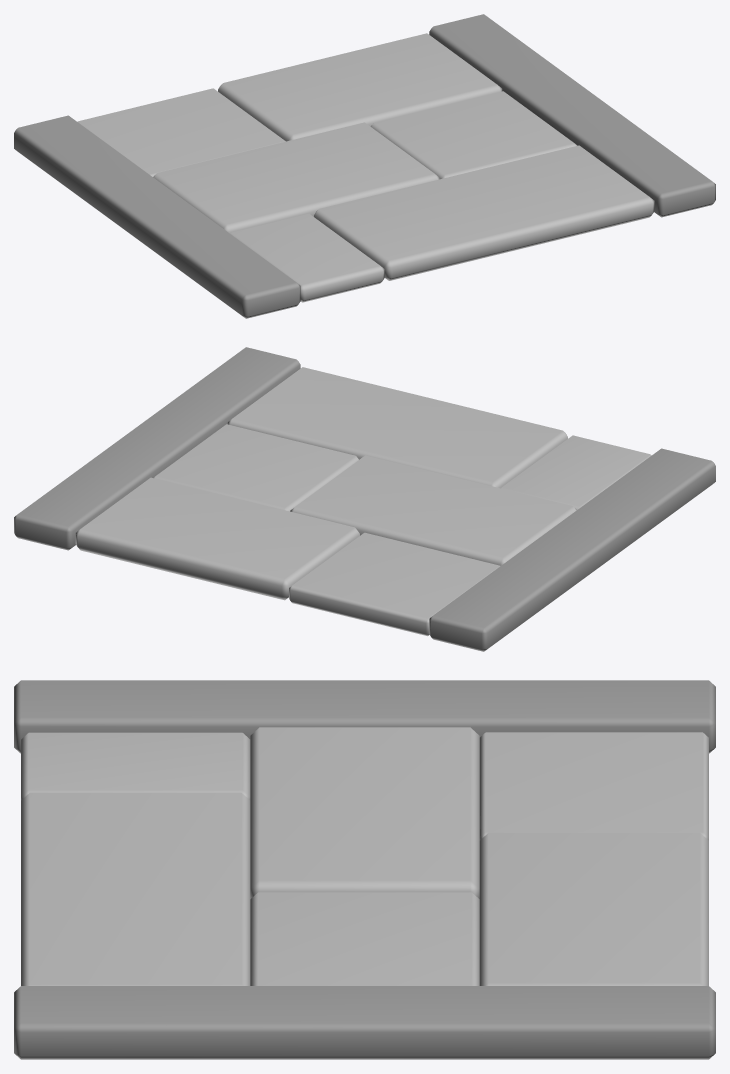
File: Town_14_Path_1.glb
The picture shows the model from 3 angles, top to bottom: view 1: azimuth 30°, elevation 25°; view 2: azimuth 150°, elevation 25°; view 3: azimuth 270°, elevation 25°; orthographic projection. The views are drawn at different scales.
Visible parts, largest first — view 1: Town_14_Path_1; view 2: Town_14_Path_1; view 3: Town_14_Path_1.
Boxes of the visible parts, <box> form: Town_14_Path_1: <box>14,14,715,318</box>; Town_14_Path_1: <box>14,347,715,651</box>; Town_14_Path_1: <box>14,680,715,1059</box>.
Bounding box in the file's own units: 2.11 × 0.1031 × 1.8.
Materials: 1 (1 with a texture image).
